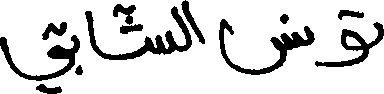ا: (83, 8, 100, 57), (189, 11, 205, 47)
ب: (73, 32, 82, 74)
ت: (337, 8, 382, 48)
س: (216, 32, 300, 75)
ش: (115, 15, 172, 55)
ل: (170, 0, 191, 53)
ن: (281, 13, 313, 46)
و: (332, 28, 366, 67)
ي: (0, 41, 74, 92)
